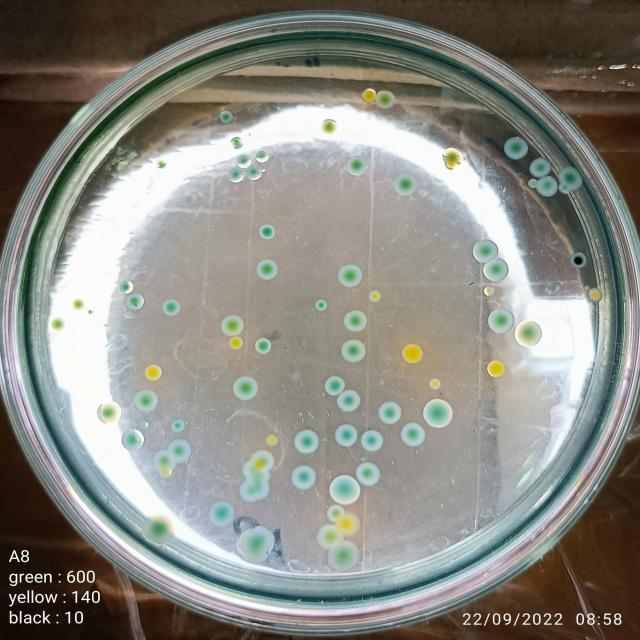black: (571, 253, 586, 268)
green: (238, 525, 276, 561), (328, 474, 361, 506), (328, 540, 359, 570), (144, 514, 174, 544), (422, 399, 453, 428), (514, 319, 543, 348), (488, 308, 514, 334), (232, 376, 259, 401), (294, 430, 320, 455), (473, 238, 499, 263), (291, 465, 316, 490), (483, 258, 509, 282), (503, 136, 529, 160), (318, 524, 344, 548), (341, 339, 366, 363), (401, 423, 425, 447), (356, 462, 380, 486), (343, 310, 368, 333), (97, 402, 122, 425), (378, 402, 402, 425), (335, 424, 358, 448), (393, 175, 417, 198), (339, 264, 362, 288), (134, 390, 158, 413), (169, 439, 192, 463), (361, 429, 384, 452), (211, 502, 234, 525), (337, 390, 361, 412), (121, 429, 145, 451), (345, 155, 367, 177), (256, 260, 279, 281), (559, 167, 583, 187), (538, 176, 559, 198), (221, 316, 244, 336), (530, 157, 552, 177), (153, 451, 175, 471), (325, 376, 345, 396), (238, 482, 258, 502), (376, 90, 396, 109), (125, 293, 145, 311), (254, 482, 270, 502), (321, 118, 338, 136), (254, 338, 272, 354), (163, 300, 181, 316), (245, 165, 262, 181), (328, 504, 344, 521), (260, 224, 276, 240), (228, 168, 244, 183), (237, 154, 252, 168), (171, 418, 185, 433), (51, 318, 66, 332), (120, 281, 134, 294), (255, 151, 269, 163), (315, 299, 327, 312), (231, 137, 244, 149), (220, 111, 232, 123), (72, 298, 84, 310), (560, 182, 571, 194), (528, 178, 539, 189), (156, 159, 166, 169), (140, 421, 149, 429), (88, 310, 95, 315)
yellow: (441, 147, 464, 170), (402, 343, 424, 365), (337, 514, 359, 535), (145, 364, 162, 382), (488, 361, 506, 378), (361, 88, 377, 104), (587, 287, 602, 304), (230, 336, 244, 350), (266, 434, 278, 447), (369, 290, 380, 302), (430, 378, 441, 390), (160, 468, 172, 478), (252, 460, 264, 470), (484, 286, 494, 297)
